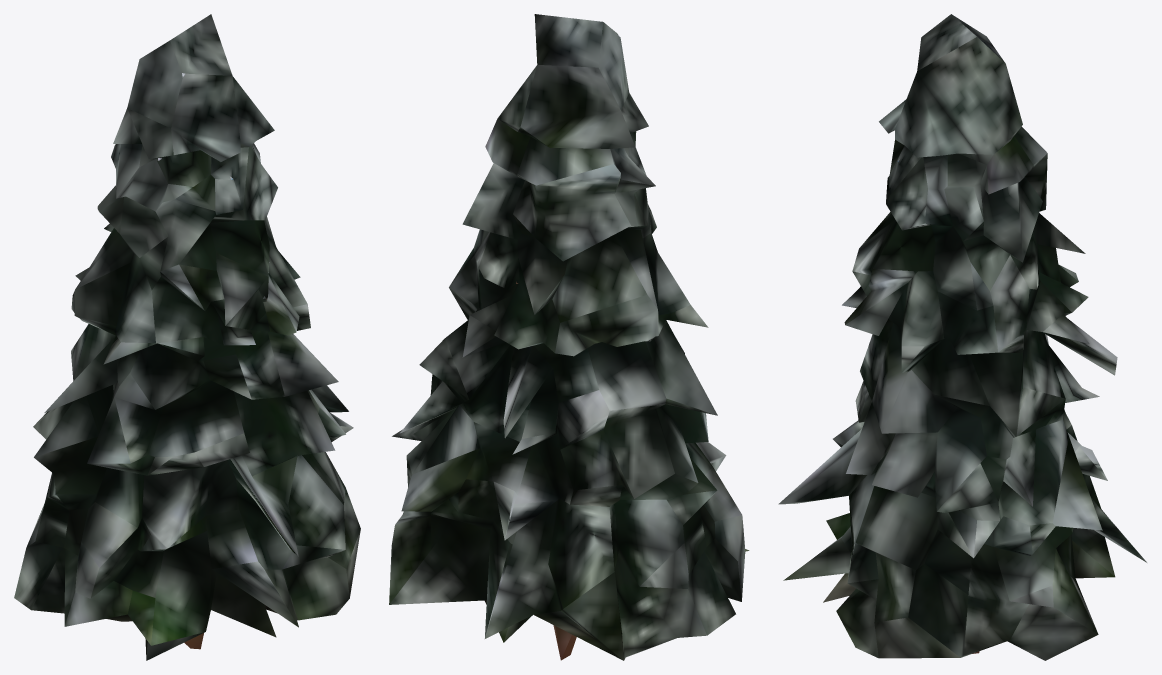
Rendered from dio_pine_m.glb.
3 views of the same model, side by side, from view 1: azimuth 30°, elevation 25°; view 2: azimuth 150°, elevation 25°; view 3: azimuth 270°, elevation 25° (orthographic). The views are drawn at different scales.
Parts seen in each view (by area): view 1: tripo_part_3; view 2: tripo_part_3; view 3: tripo_part_3.
Part boxes in pixels (<box>): tripo_part_3: <box>14,14,360,660</box>; tripo_part_3: <box>389,14,749,660</box>; tripo_part_3: <box>778,14,1146,660</box>.
Size of the model in its own units: 0.0999 by 0.1805 by 0.0961.
1 material, 1 textured.
